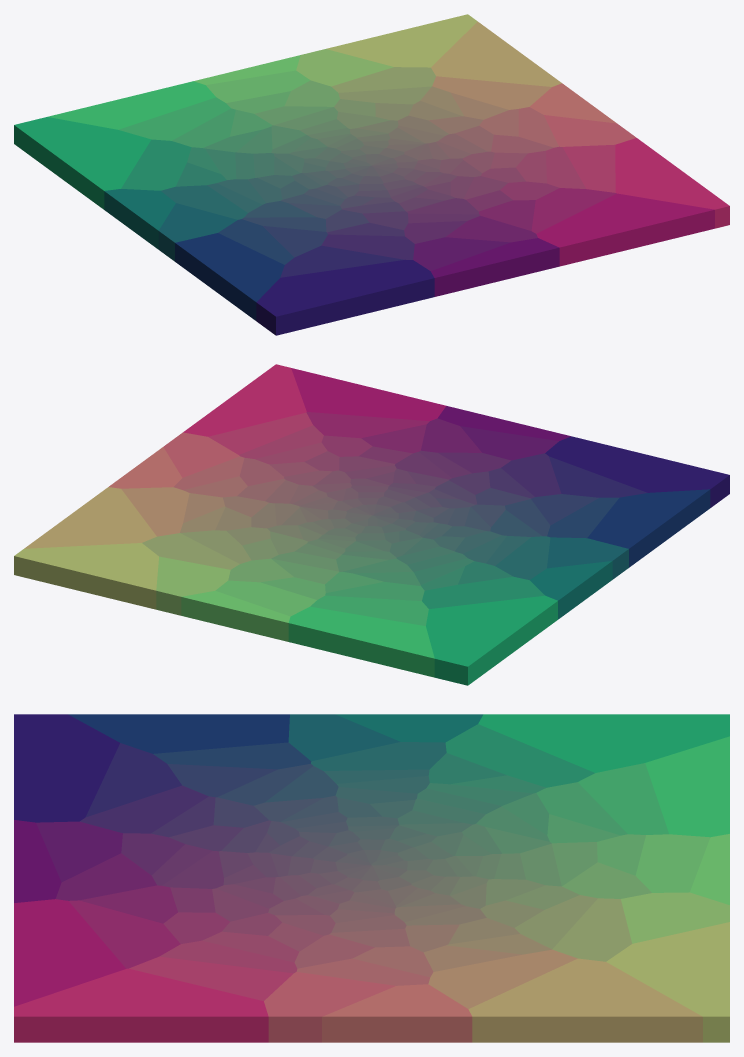
The model's file is Fx_DiLie_01.FBX.
The picture shows the model from 3 angles, top to bottom: view 1: azimuth 30°, elevation 25°; view 2: azimuth 150°, elevation 25°; view 3: azimuth 270°, elevation 25°; orthographic projection. The views are drawn at different scales.
Visible parts, largest first — view 1: Object01; view 2: Object01; view 3: Object01.
Boxes of the visible parts, x1,y1,x2,y2 form: Object01: (14, 14, 729, 335); Object01: (14, 364, 729, 685); Object01: (14, 714, 729, 1042).
Size of the model in its own units: 250 by 10 by 250.
